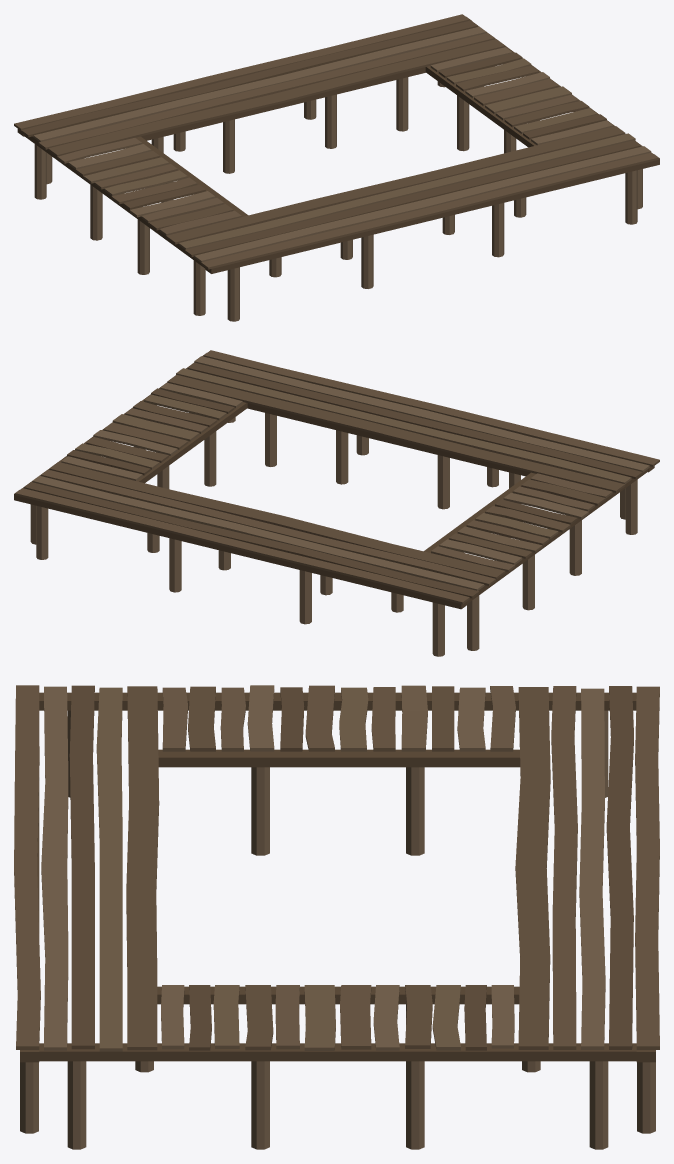
The model's file is Bld_Foundation_01.fbx.
The picture shows the model from 3 angles, top to bottom: view 1: azimuth 30°, elevation 25°; view 2: azimuth 150°, elevation 25°; view 3: azimuth 270°, elevation 25°; orthographic projection. The views are drawn at different scales.
Parts seen in each view (by area): view 1: Bld_Foundation_01; view 2: Bld_Foundation_01; view 3: Bld_Foundation_01.
Part boxes in pixels (<box>): Bld_Foundation_01: <box>14,14,659,321</box>; Bld_Foundation_01: <box>14,350,659,656</box>; Bld_Foundation_01: <box>14,685,659,1149</box>.
Size of the model in its own units: 8.88 by 1.16 by 6.68.
